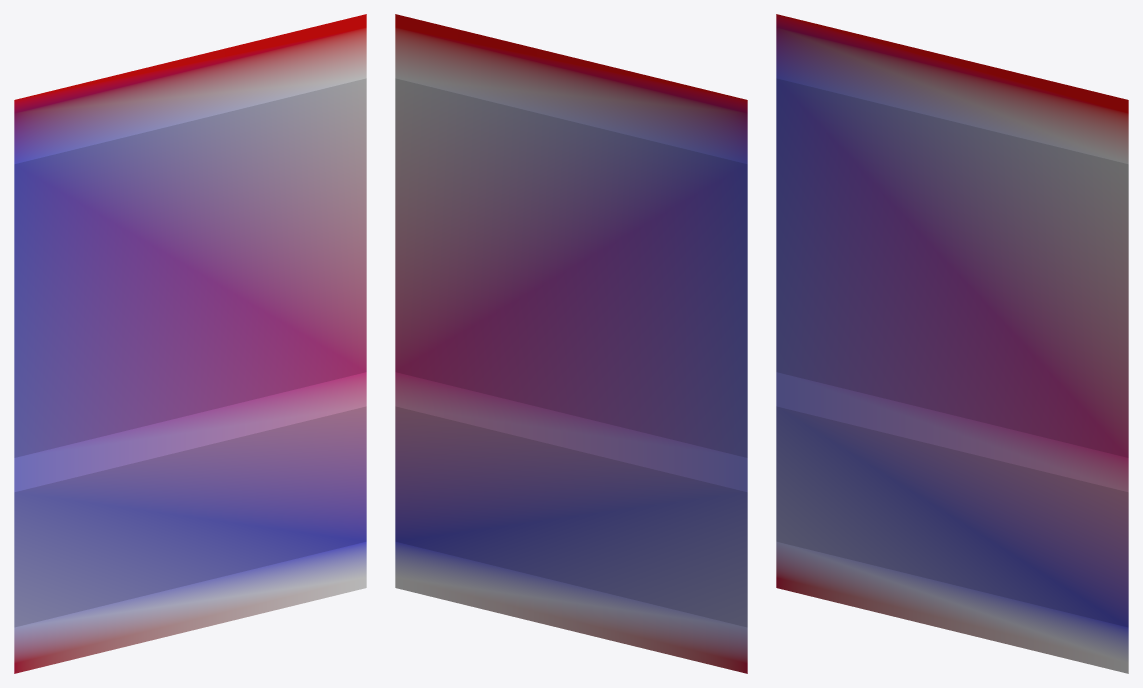
3 views of the same model, side by side, from view 1: azimuth 30°, elevation 25°; view 2: azimuth 150°, elevation 25°; view 3: azimuth 330°, elevation 25° (orthographic).
Visible parts, largest first — view 1: SM_Bathroom_Wall_01_LOD0; view 2: SM_Bathroom_Wall_01_LOD0; view 3: SM_Bathroom_Wall_01_LOD0.
Boxes of the visible parts, left/top/right/bottom form: SM_Bathroom_Wall_01_LOD0: left=14, top=14, right=366, bottom=673; SM_Bathroom_Wall_01_LOD0: left=395, top=14, right=747, bottom=673; SM_Bathroom_Wall_01_LOD0: left=776, top=14, right=1128, bottom=673.
Size of the model in its own units: 225 by 2.68e-05 by 350.
